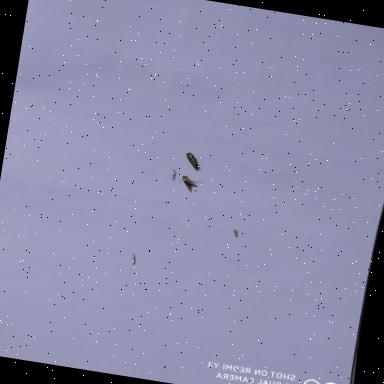pbw: (183, 152, 204, 170), (180, 174, 202, 189)
